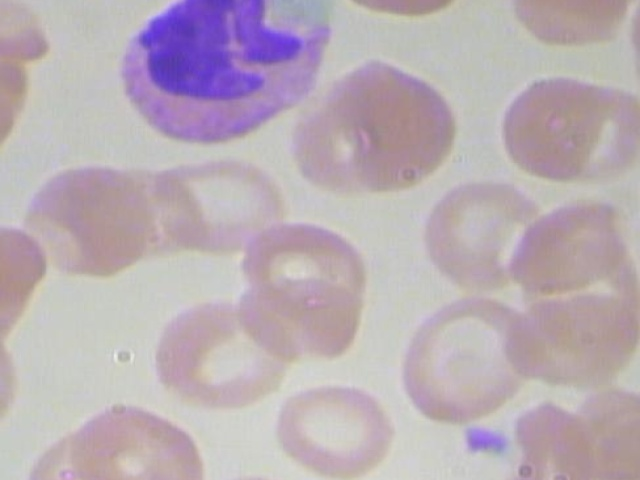RBC: (399, 288, 543, 428), (149, 298, 309, 413), (152, 144, 297, 269), (16, 156, 154, 282), (501, 271, 640, 396), (413, 173, 547, 298), (484, 67, 614, 188), (270, 378, 408, 480), (64, 393, 209, 480), (493, 0, 638, 50), (0, 327, 21, 448)
